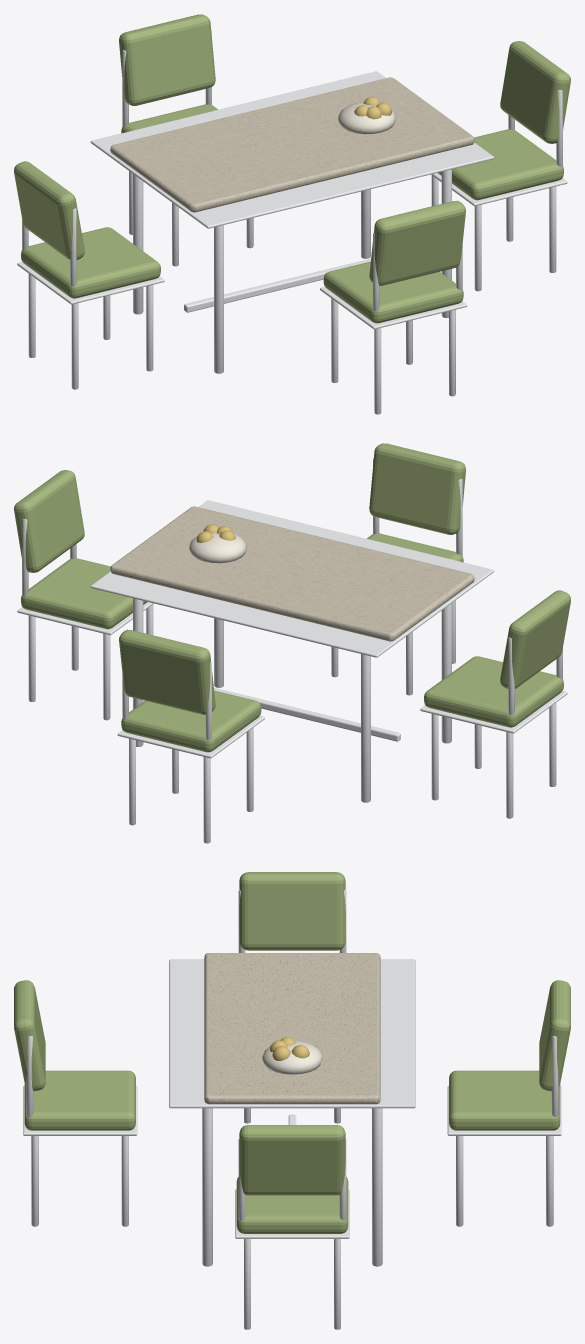
Rendered from interior-prop-dinette.glb.
The picture shows the model from 3 angles, top to bottom: view 1: azimuth 30°, elevation 25°; view 2: azimuth 150°, elevation 25°; view 3: azimuth 270°, elevation 25°; orthographic projection. The views are drawn at different scales.
Visible parts, largest first — view 1: dinette-top, dinette-edge, dinette-chair-3-back, dinette-chair-2-back, dinette-chair-0-seat, dinette-chair-1-back, dinette-chair-1-seat, dinette-chair-2-seat, dinette-chair-0-back, dinette-stretcher, dinette-leg-0, dinette-bowl (+14 smaller); view 2: dinette-top, dinette-edge, dinette-chair-2-back, dinette-chair-3-back, dinette-chair-0-seat, dinette-chair-1-back, dinette-chair-1-seat, dinette-chair-3-seat, dinette-chair-0-back, dinette-stretcher, dinette-leg-2, dinette-bowl (+14 smaller); view 3: dinette-top, dinette-edge, dinette-chair-0-back, dinette-chair-1-back, dinette-chair-2-seat, dinette-chair-3-seat, dinette-chair-1-seat, dinette-chair-2-back, dinette-chair-3-back, dinette-leg-1, dinette-leg-3, dinette-bowl (+9 smaller).
Boxes of the visible parts, x1,y1,x2,y2 form: dinette-top: (110, 77, 474, 212); dinette-edge: (90, 71, 494, 228); dinette-chair-3-back: (119, 14, 215, 105); dinette-chair-2-back: (369, 200, 465, 285); dinette-chair-0-seat: (21, 227, 160, 298); dinette-chair-1-back: (500, 41, 570, 143); dinette-chair-1-seat: (438, 129, 563, 200); dinette-chair-2-seat: (323, 261, 463, 323); dinette-chair-0-back: (14, 161, 84, 259); dinette-stretcher: (184, 258, 370, 312); dinette-leg-0: (214, 225, 223, 373); dinette-bowl: (338, 102, 395, 134); dinette-top: (110, 506, 474, 641); dinette-edge: (90, 500, 494, 657); dinette-chair-2-back: (369, 443, 465, 534); dinette-chair-3-back: (119, 629, 215, 714); dinette-chair-0-seat: (424, 656, 563, 727); dinette-chair-1-back: (14, 470, 84, 572); dinette-chair-1-seat: (21, 558, 146, 629); dinette-chair-3-seat: (121, 690, 261, 752); dinette-chair-0-back: (500, 590, 570, 688); dinette-stretcher: (214, 687, 400, 741); dinette-leg-2: (361, 654, 370, 802); dinette-bowl: (189, 533, 246, 563); dinette-top: (204, 953, 380, 1104); dinette-edge: (169, 959, 415, 1108); dinette-chair-0-back: (239, 872, 345, 950); dinette-chair-1-back: (239, 1125, 345, 1195); dinette-chair-2-seat: (24, 1070, 135, 1130); dinette-chair-3-seat: (449, 1070, 560, 1130); dinette-chair-1-seat: (236, 1177, 348, 1233); dinette-chair-2-back: (14, 980, 45, 1091); dinette-chair-3-back: (539, 980, 570, 1091); dinette-leg-1: (202, 1108, 212, 1266); dinette-leg-3: (372, 1108, 382, 1266); dinette-bowl: (262, 1040, 322, 1074).
Size of the model in its own units: 2.34 by 0.8591 by 2.1.
5 materials, 1 textured.
